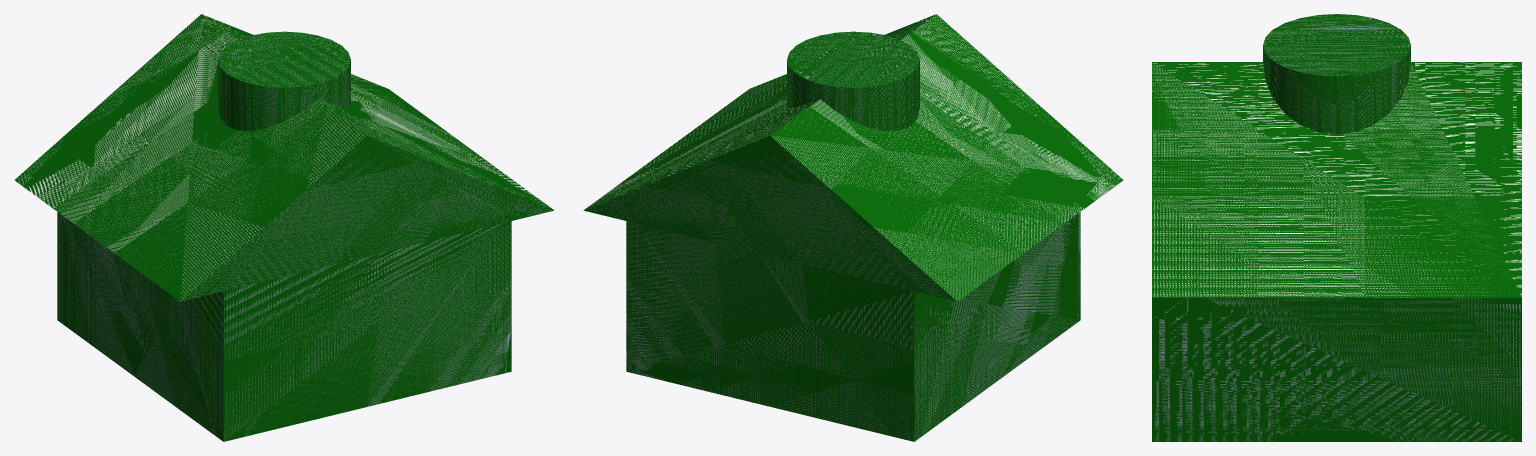
The model's file is House.fbx.
3 views of the same model, side by side, from view 1: azimuth 30°, elevation 25°; view 2: azimuth 150°, elevation 25°; view 3: azimuth 270°, elevation 25° (orthographic). The views are drawn at different scales.
Parts seen in each view (by area): view 1: Model; view 2: Model; view 3: Model.
Boxes of the visible parts, x1,y1,x2,y2 form: Model: (14,14,554,441); Model: (583,14,1123,441); Model: (1152,14,1521,441).
Bounding box in the file's own units: 13.72 × 10.02 × 10.55.
